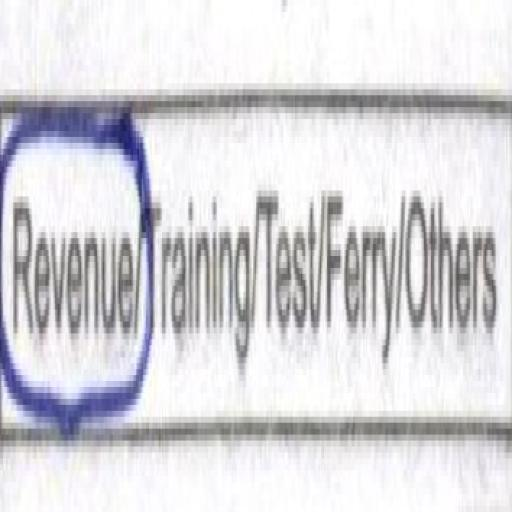check: (0, 42, 142, 464)
